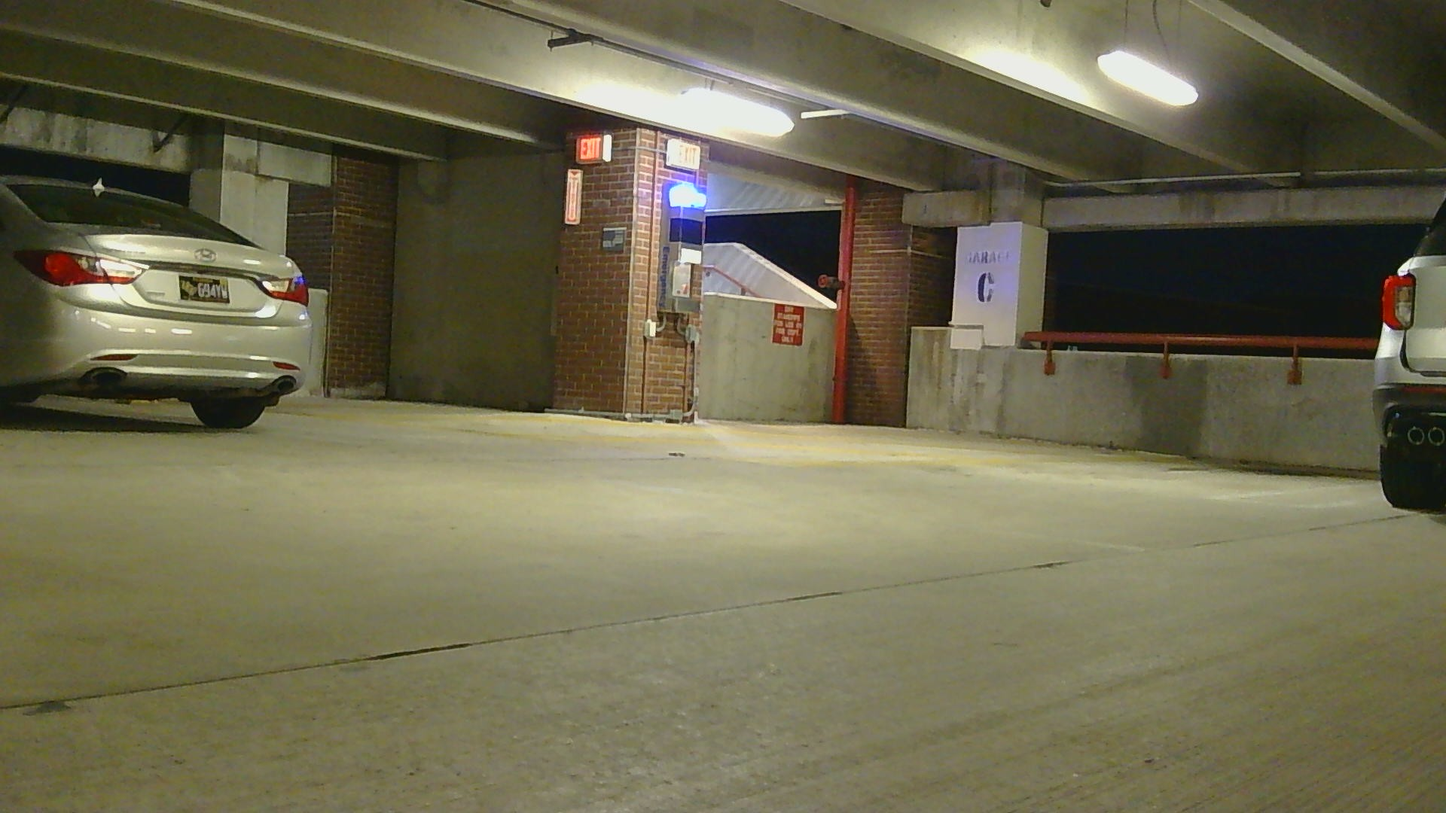empty_spot: (938, 423, 1378, 518)
occupied_spot: (0, 173, 322, 437), (1382, 210, 1443, 513)
